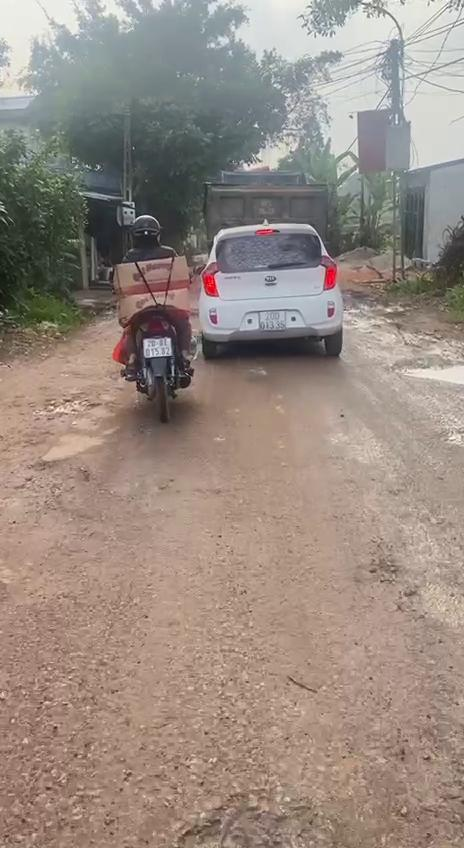pothole: (20, 447, 95, 513), (393, 352, 464, 394), (37, 392, 114, 418)
